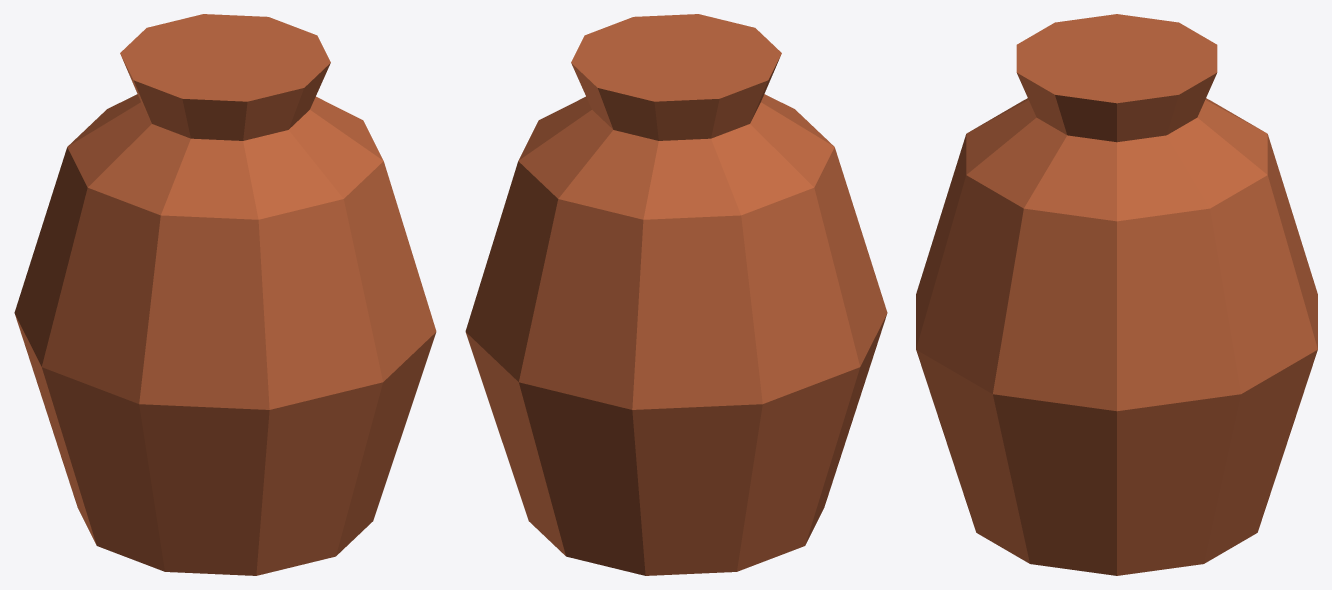
File: clay_jar.fbx
3 views of the same model, side by side, from view 1: azimuth 30°, elevation 25°; view 2: azimuth 150°, elevation 25°; view 3: azimuth 270°, elevation 25° (orthographic).
Parts seen in each view (by area): view 1: clay_jar; view 2: clay_jar; view 3: clay_jar.
Part boxes in pixels (bbox=[...]): clay_jar: bbox=[14, 14, 436, 575]; clay_jar: bbox=[465, 14, 887, 575]; clay_jar: bbox=[916, 14, 1317, 575].
Bounding box in the file's own units: 0.8 × 0.95 × 0.7608.
